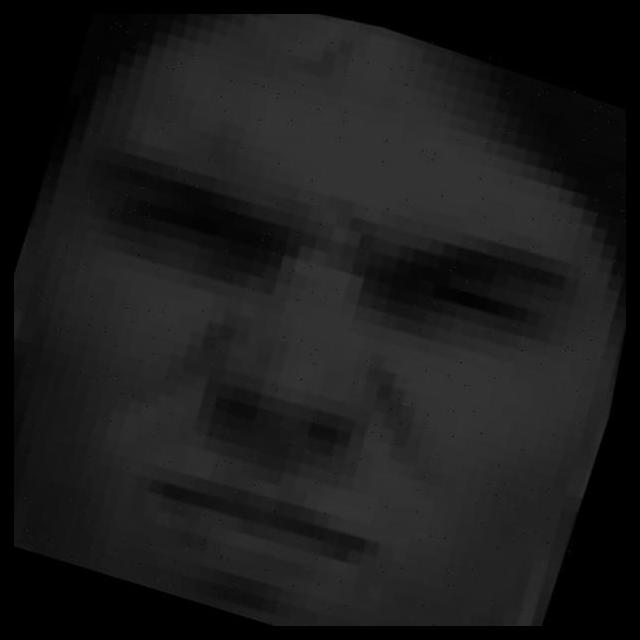Disgust: (14, 77, 603, 618)
